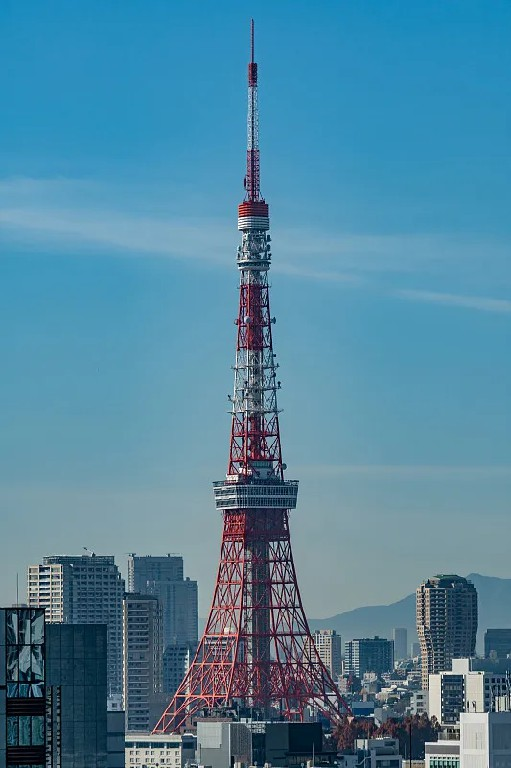Tokyo: (149, 16, 363, 735)
